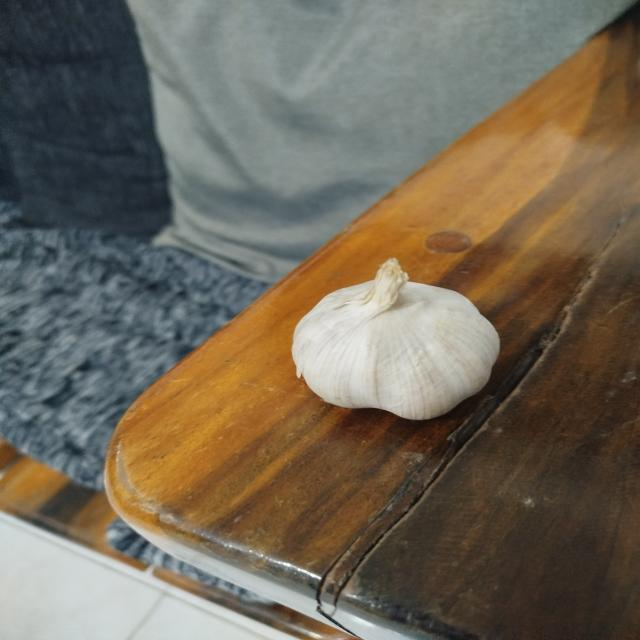garlic: (291, 257, 501, 421)
